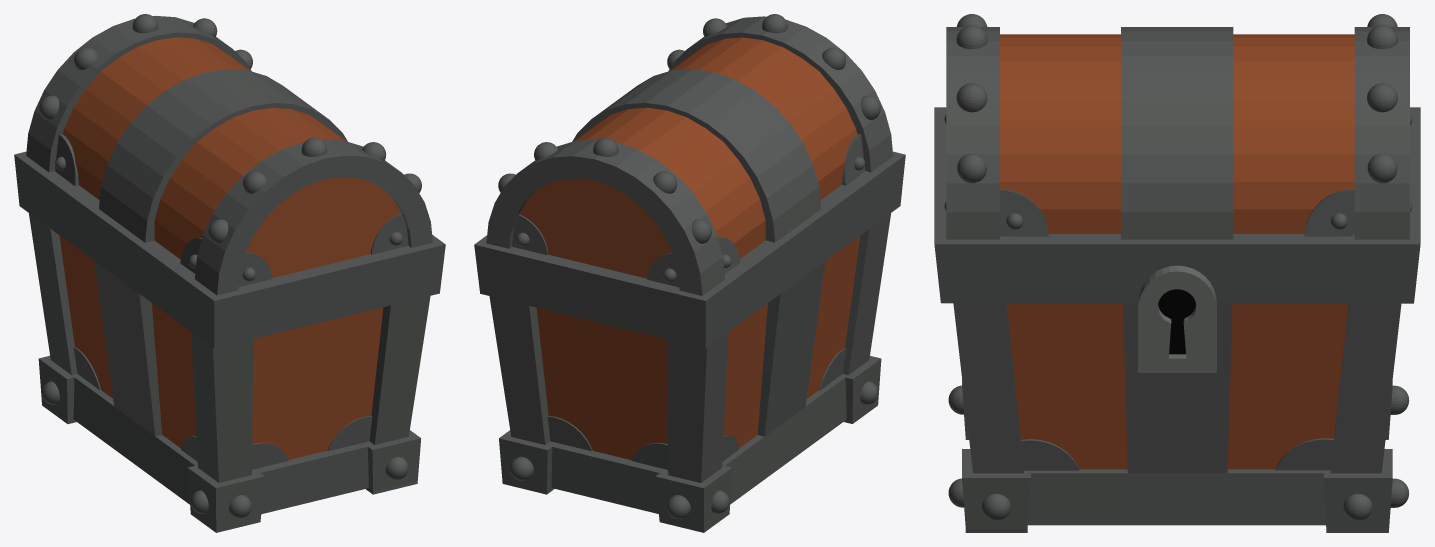
File: Bau (2).fbx
3 renders of one model, left to right at view 1: azimuth 30°, elevation 25°; view 2: azimuth 150°, elevation 25°; view 3: azimuth 270°, elevation 25°, orthographic. The views are drawn at different scales.
Visible parts, largest first — view 1: Base, Tampa; view 2: Base, Tampa; view 3: Base, Tampa.
Part boxes in pixels (x1=…): Base: x1=14, y1=151, x2=445, y2=532; Tampa: x1=26, y1=14, x2=432, y2=295; Base: x1=474, y1=151, x2=905, y2=532; Tampa: x1=486, y1=14, x2=893, y2=295; Base: x1=934, y1=107, x2=1420, y2=532; Tampa: x1=944, y1=14, x2=1412, y2=239.
Size of the model in its own units: 120 by 175 by 173.
